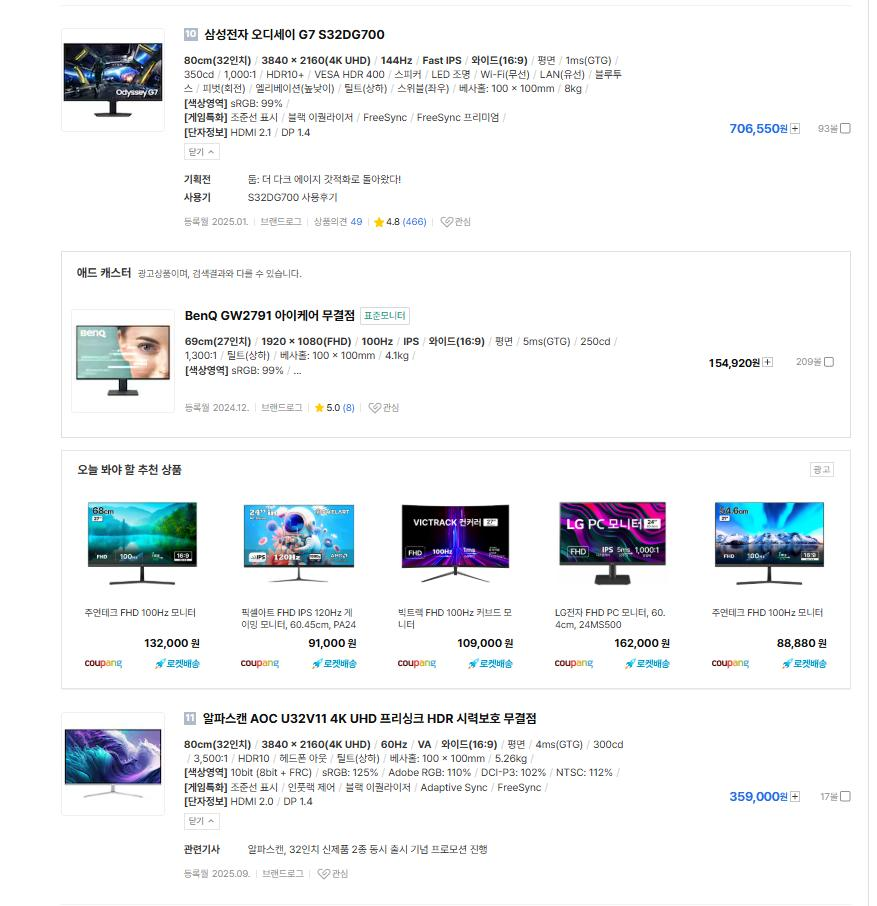button: (723, 114, 806, 143), (726, 785, 810, 812), (704, 350, 782, 374), (364, 390, 411, 426), (313, 859, 356, 889), (439, 210, 476, 233)
checkbox: (790, 348, 838, 376), (182, 139, 226, 167), (817, 782, 858, 812), (183, 808, 224, 833), (815, 116, 856, 139)
popup: (60, 449, 849, 690), (58, 243, 853, 437)
